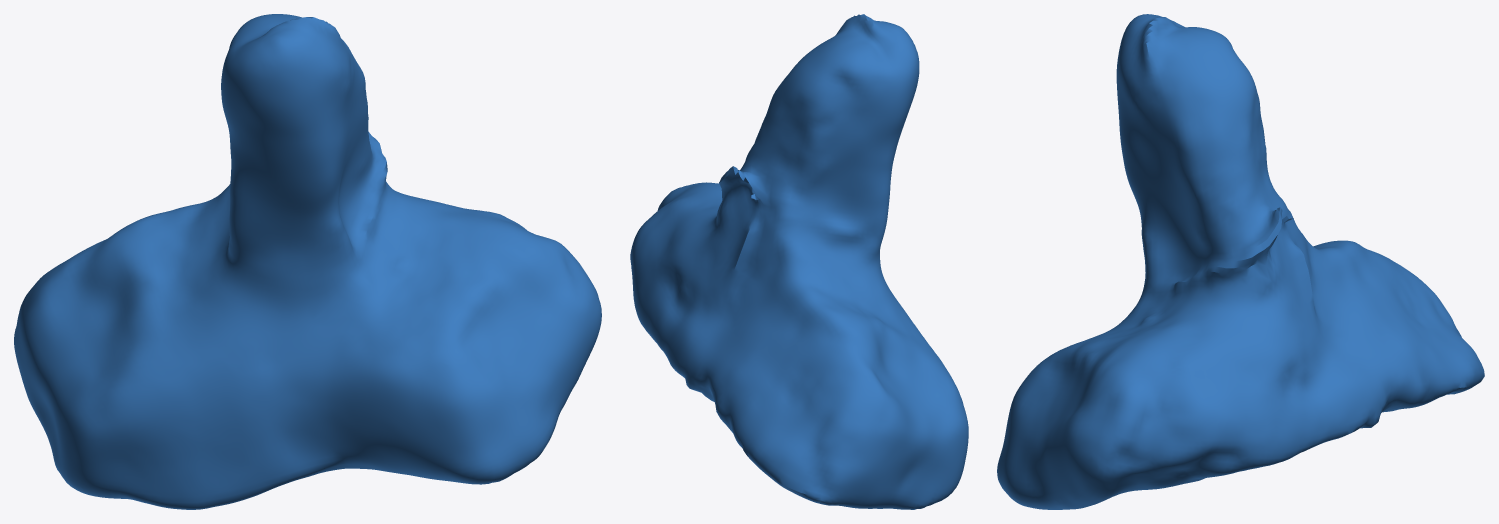
Rendered from bust2_decimated.fbx.
3 renders of one model, left to right at view 1: azimuth 30°, elevation 25°; view 2: azimuth 150°, elevation 25°; view 3: azimuth 270°, elevation 25°, orthographic. The views are drawn at different scales.
Parts seen in each view (by area): view 1: Default; view 2: Default; view 3: Default.
Part boxes in pixels (left/top/right/bottom): Default: left=14, top=14, right=601, bottom=509; Default: left=630, top=14, right=968, bottom=509; Default: left=997, top=14, right=1484, bottom=509.
Bounding box in the file's own units: 0.3732 × 0.393 × 0.3746.
